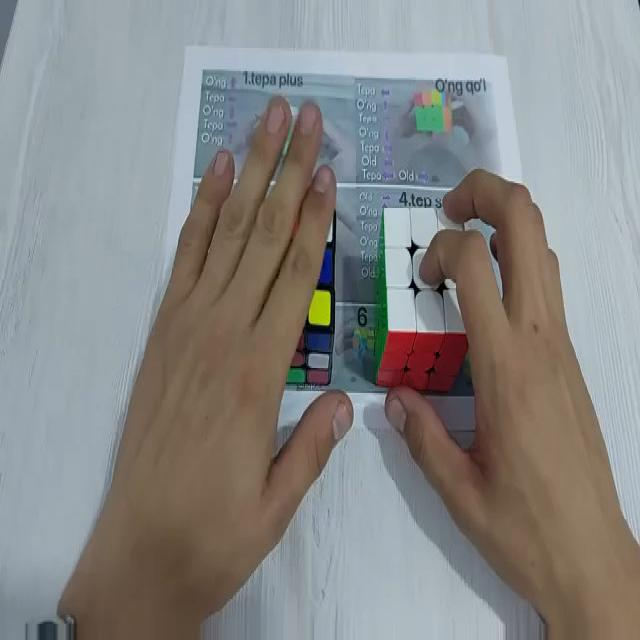Rub: (375, 207, 471, 388), (286, 200, 338, 390)
